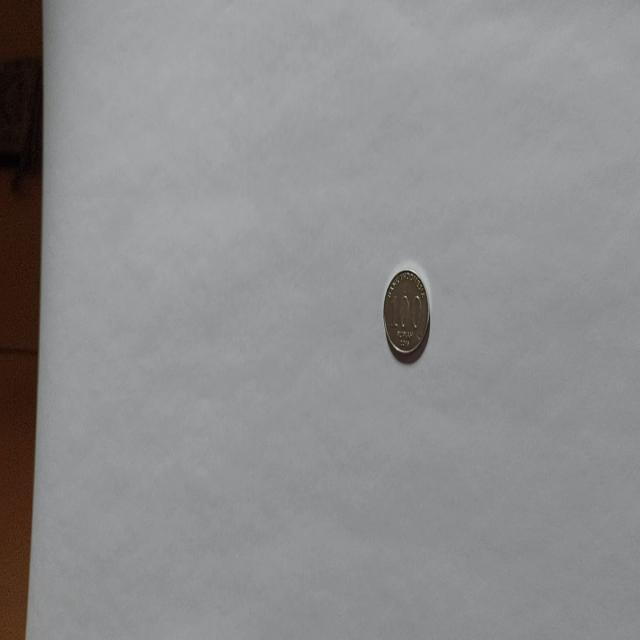seratus rupiah: (382, 267, 430, 361)
